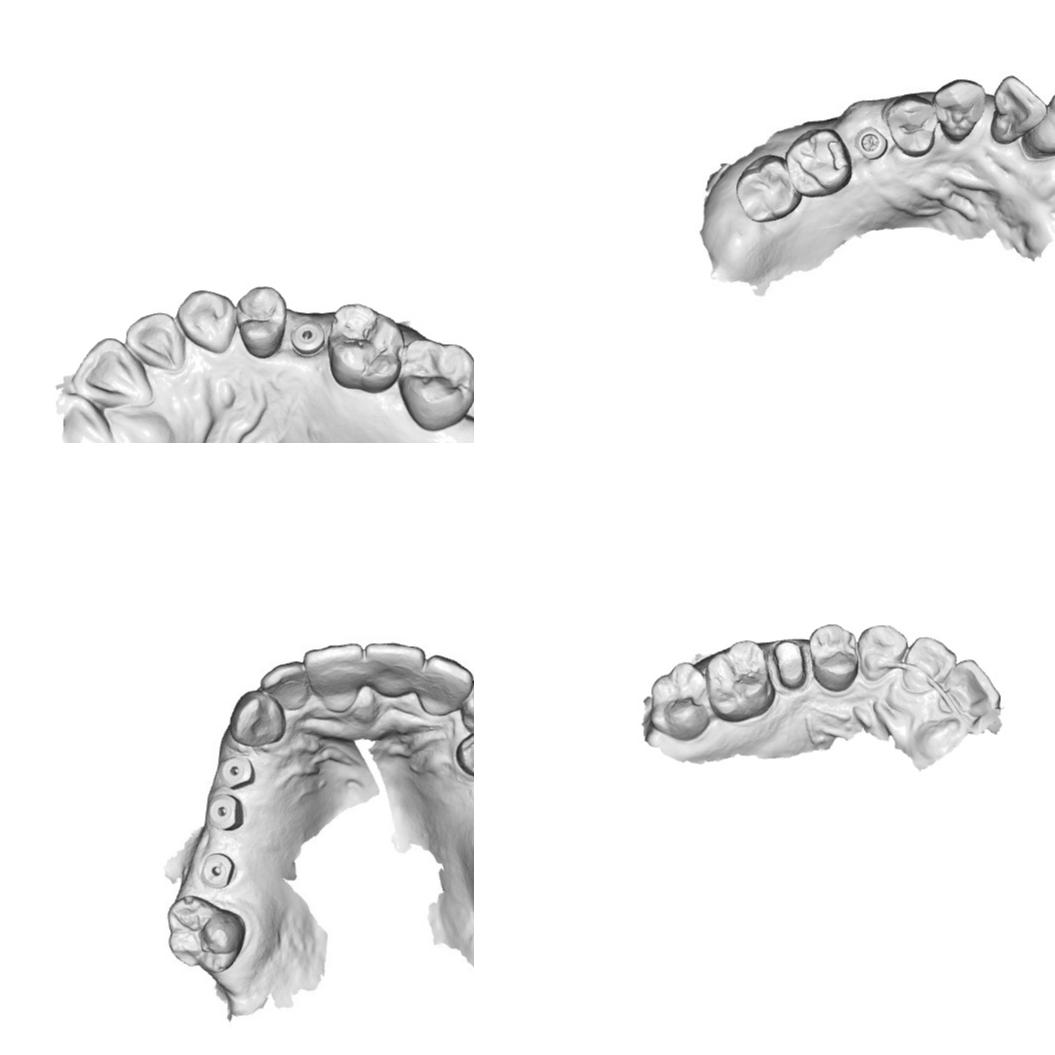canine: (173, 286, 237, 355), (935, 75, 986, 142), (229, 691, 287, 748), (856, 623, 908, 682), (459, 677, 474, 735)
crown: (773, 638, 809, 690)
implant: (206, 793, 242, 829), (855, 125, 890, 162), (290, 322, 325, 357), (219, 755, 256, 786)
implant_minus: (201, 849, 234, 888)
incisor: (68, 334, 154, 409), (301, 641, 364, 712), (990, 73, 1047, 148), (360, 640, 428, 700), (121, 311, 185, 373), (940, 659, 1001, 718), (418, 652, 474, 710), (902, 635, 958, 692), (259, 661, 309, 715), (1031, 81, 1055, 158)
molar: (396, 337, 474, 433), (326, 303, 406, 393), (164, 892, 249, 976), (704, 638, 776, 723), (648, 660, 712, 742), (782, 126, 852, 199), (731, 154, 805, 223)
premolar: (234, 285, 290, 360), (808, 623, 859, 693), (882, 95, 938, 158), (455, 726, 474, 777)
